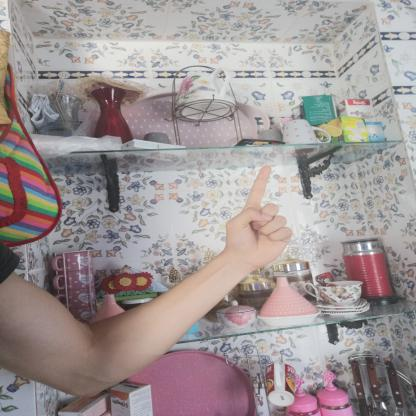BAA: (218, 155, 298, 278)
